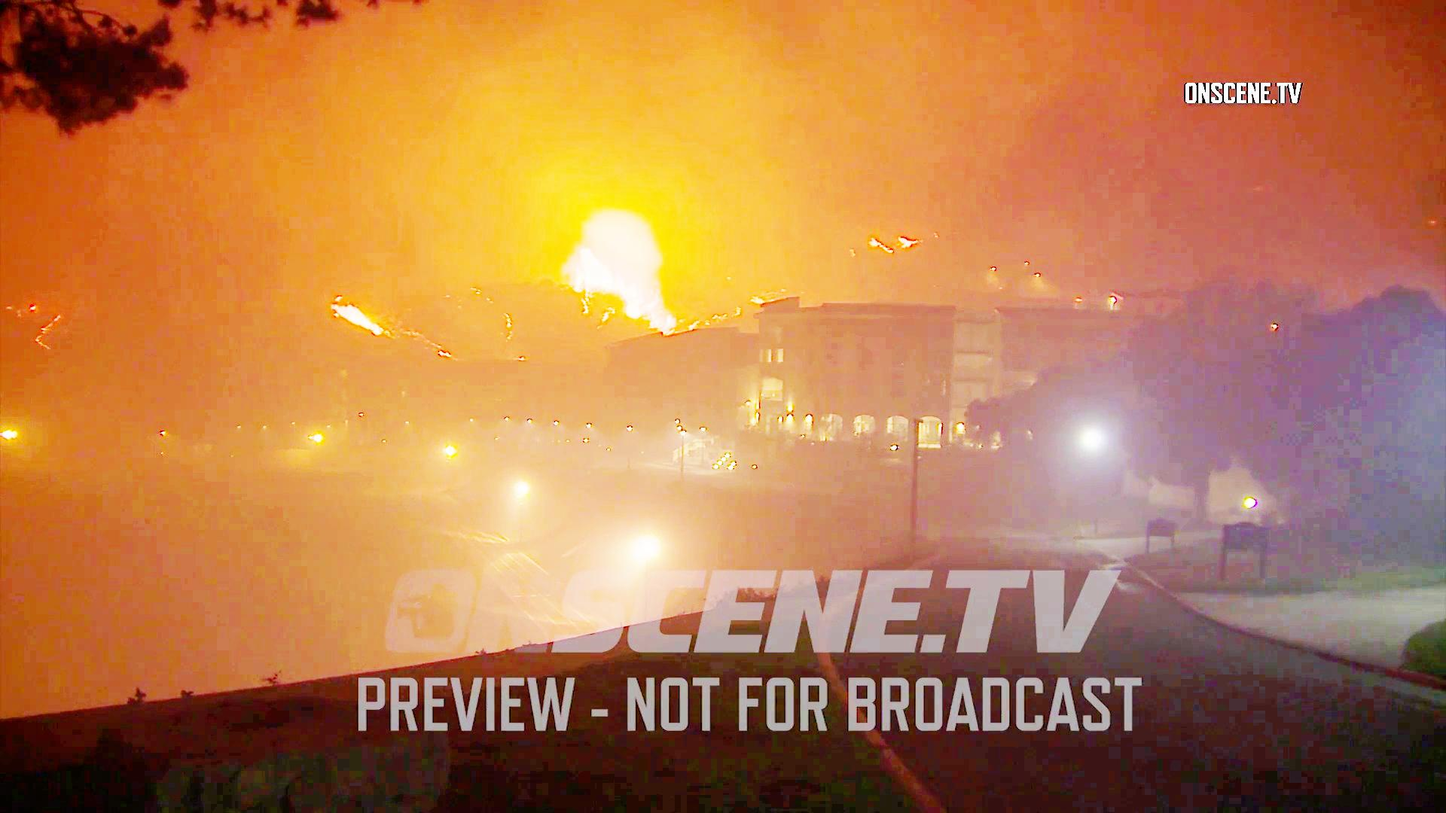fire: (573, 249, 642, 333)
